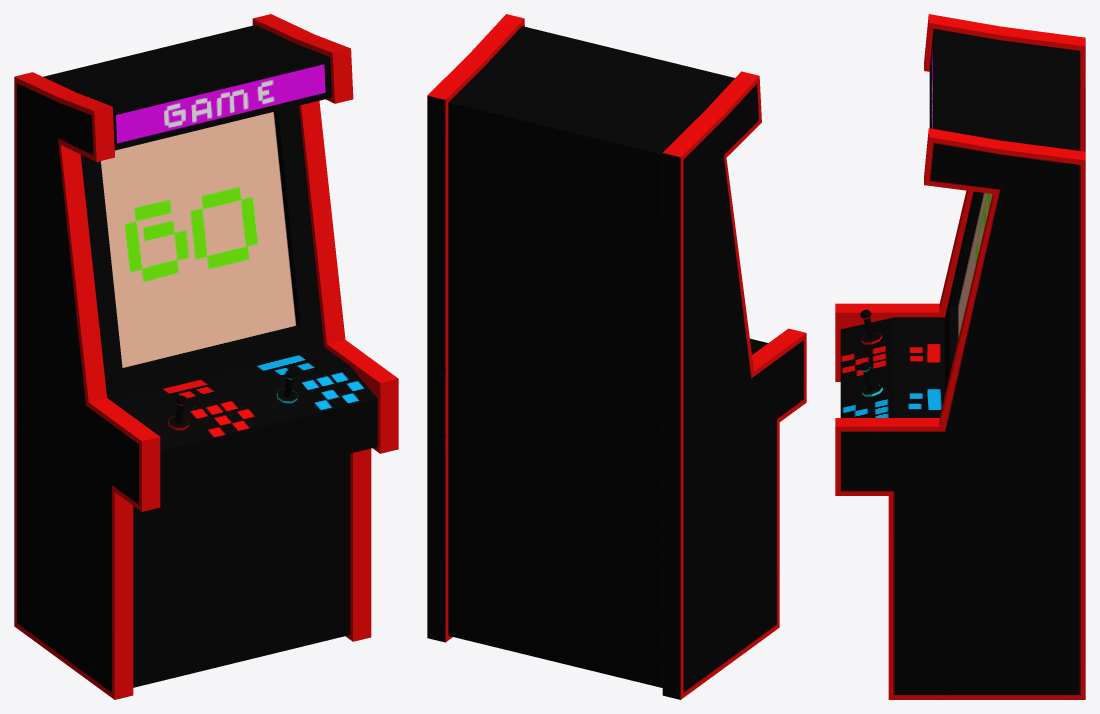
File: arcade.fbx
The picture shows the model from 3 angles, left to right: view 1: azimuth 30°, elevation 25°; view 2: azimuth 150°, elevation 25°; view 3: azimuth 270°, elevation 25°; orthographic projection.
Parts seen in each view (by area): view 1: game_consol_2; view 2: game_consol_2; view 3: game_consol_2.
Part boxes in pixels (x1,y1,x2,y2): game_consol_2: (14, 14, 398, 699); game_consol_2: (427, 14, 806, 699); game_consol_2: (835, 14, 1085, 699).
Size of the model in its own units: 70.99 by 152 by 61.1.
Materials: 1 (1 with a texture image).
